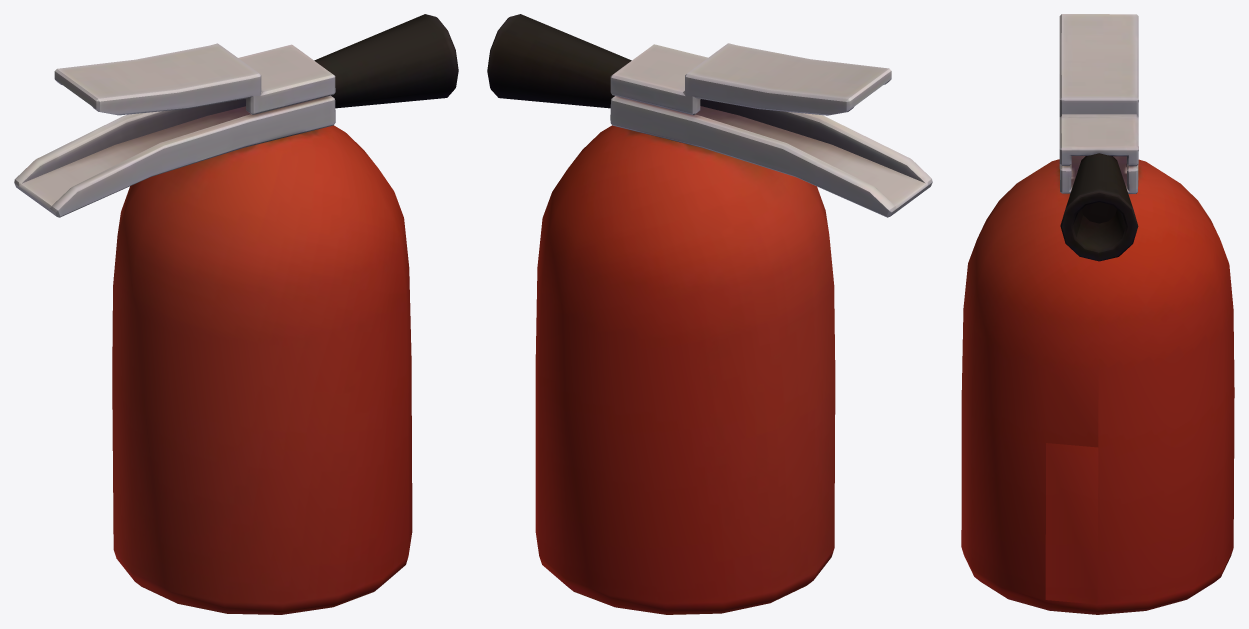
Rendered from fireExtinguisher.glb.
The picture shows the model from 3 angles, left to right: view 1: azimuth 30°, elevation 25°; view 2: azimuth 150°, elevation 25°; view 3: azimuth 270°, elevation 25°; orthographic projection. The views are drawn at different scales.
Visible parts, largest first — view 1: Object_5.004; view 2: Object_5.004; view 3: Object_5.004.
Part boxes in pixels (<box>): Object_5.004: <box>14,14,458,614</box>; Object_5.004: <box>487,14,932,614</box>; Object_5.004: <box>961,14,1234,614</box>.
Size of the model in its own units: 1.21 by 1.5 by 0.7881.
1 material, 1 textured.
